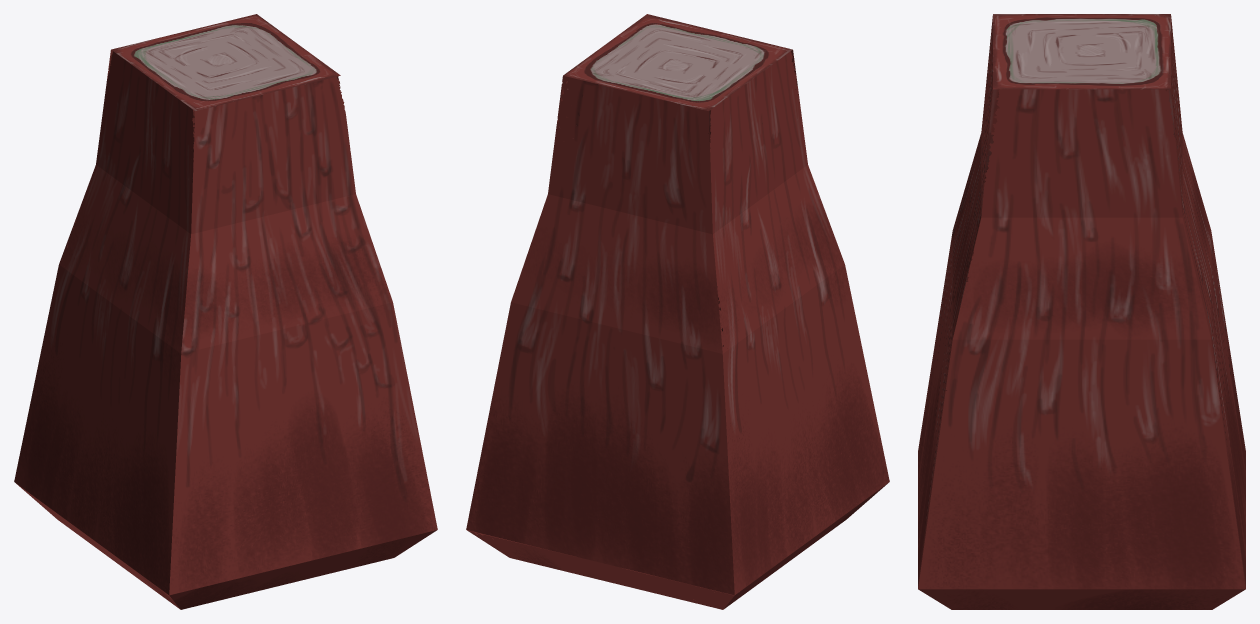
The model's file is Sapin_Tronc.fbx.
The picture shows the model from 3 angles, left to right: view 1: azimuth 30°, elevation 25°; view 2: azimuth 150°, elevation 25°; view 3: azimuth 270°, elevation 25°; orthographic projection. The views are drawn at different scales.
Parts seen in each view (by area): view 1: Sapin Tronc; view 2: Sapin Tronc; view 3: Sapin Tronc.
Boxes of the visible parts, x1,y1,x2,y2 form: Sapin Tronc: (14, 14, 437, 609); Sapin Tronc: (466, 14, 889, 609); Sapin Tronc: (918, 14, 1245, 609).
Bounding box in the file's own units: 254 × 430 × 254.
